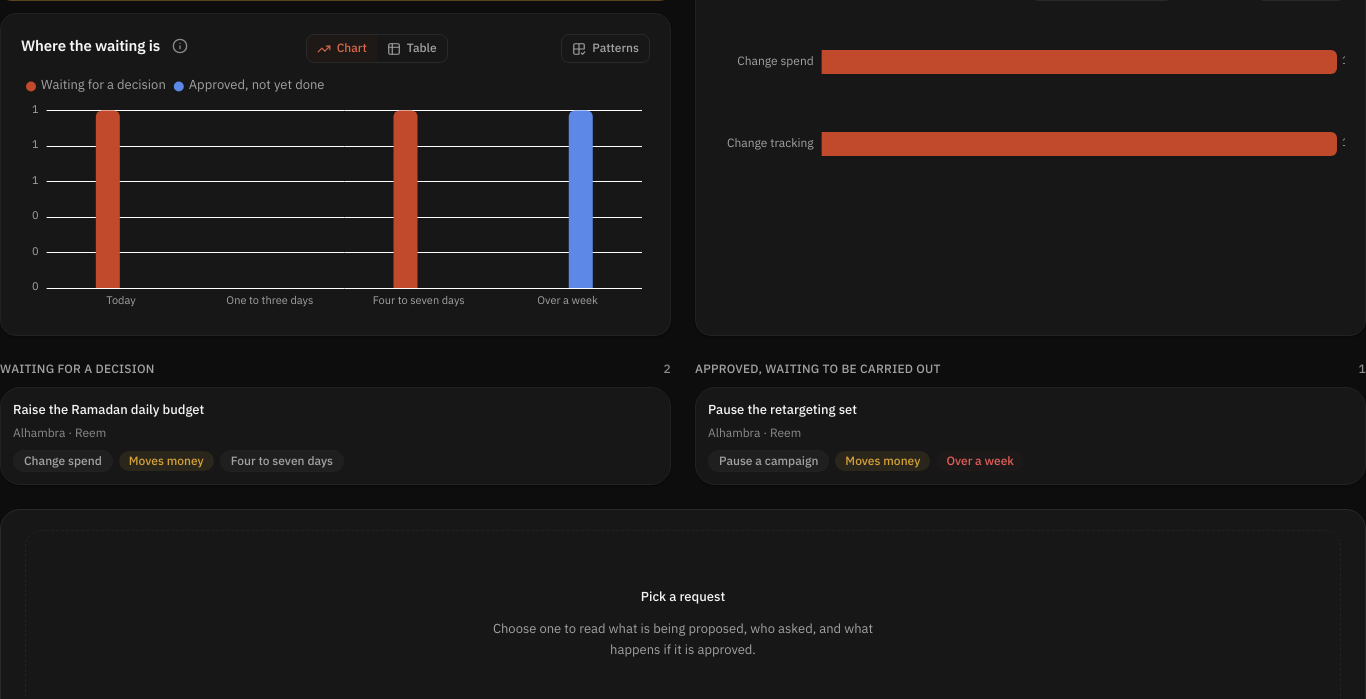
a request › shows the server's own words when the proposal changed under the reader
The width and height of the screenshot is (1366, 699).
(page scrolled)
Click the button "Raise the Ramadan daily budget": point(109, 409) [0,387,671,485]
(page scrolled)
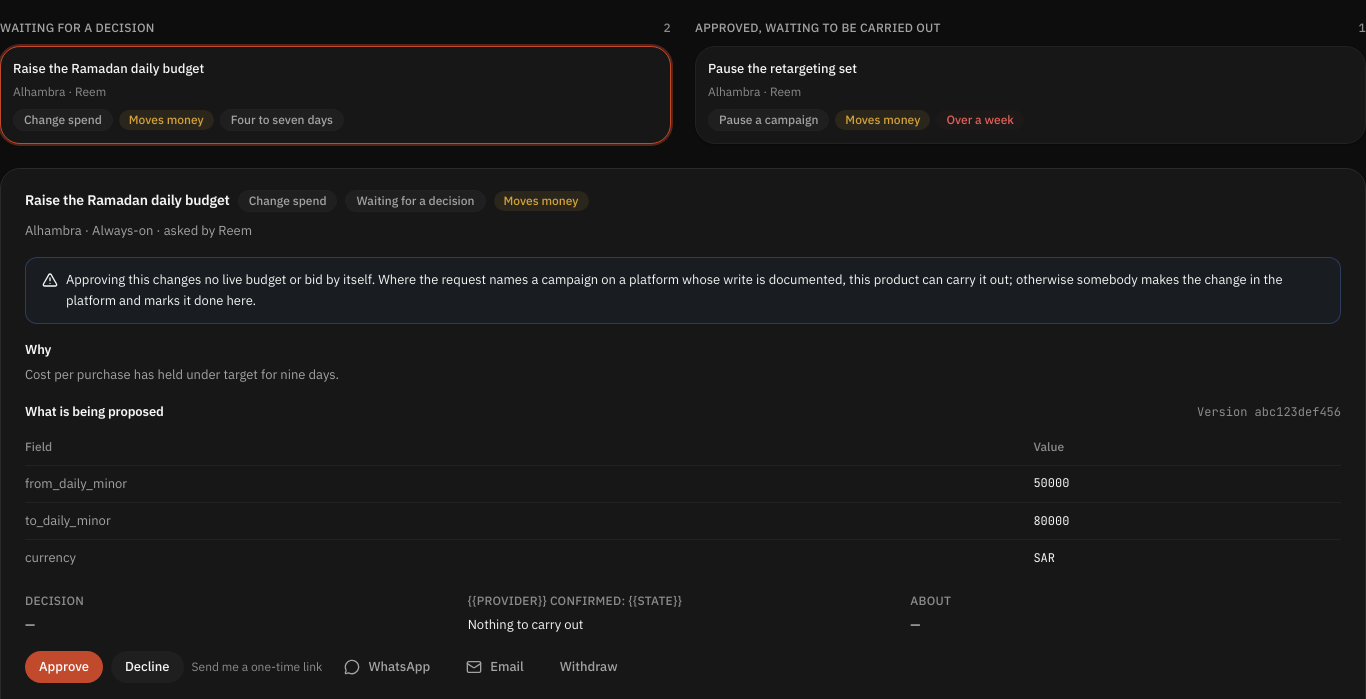
Click the button "Approve": point(64, 667) [25,651,103,683]
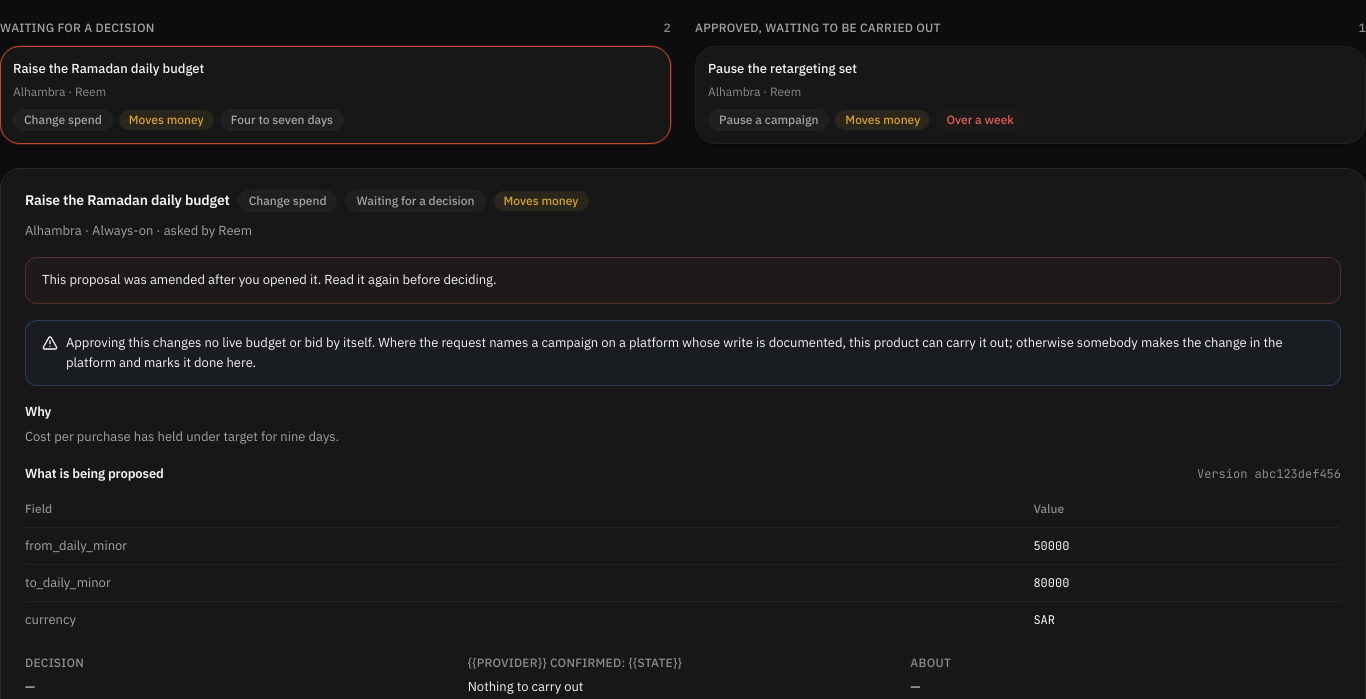
Result: the text "This proposal was amended after you opened it. Read it again before deciding." is shown at [25,257,1341,304]
